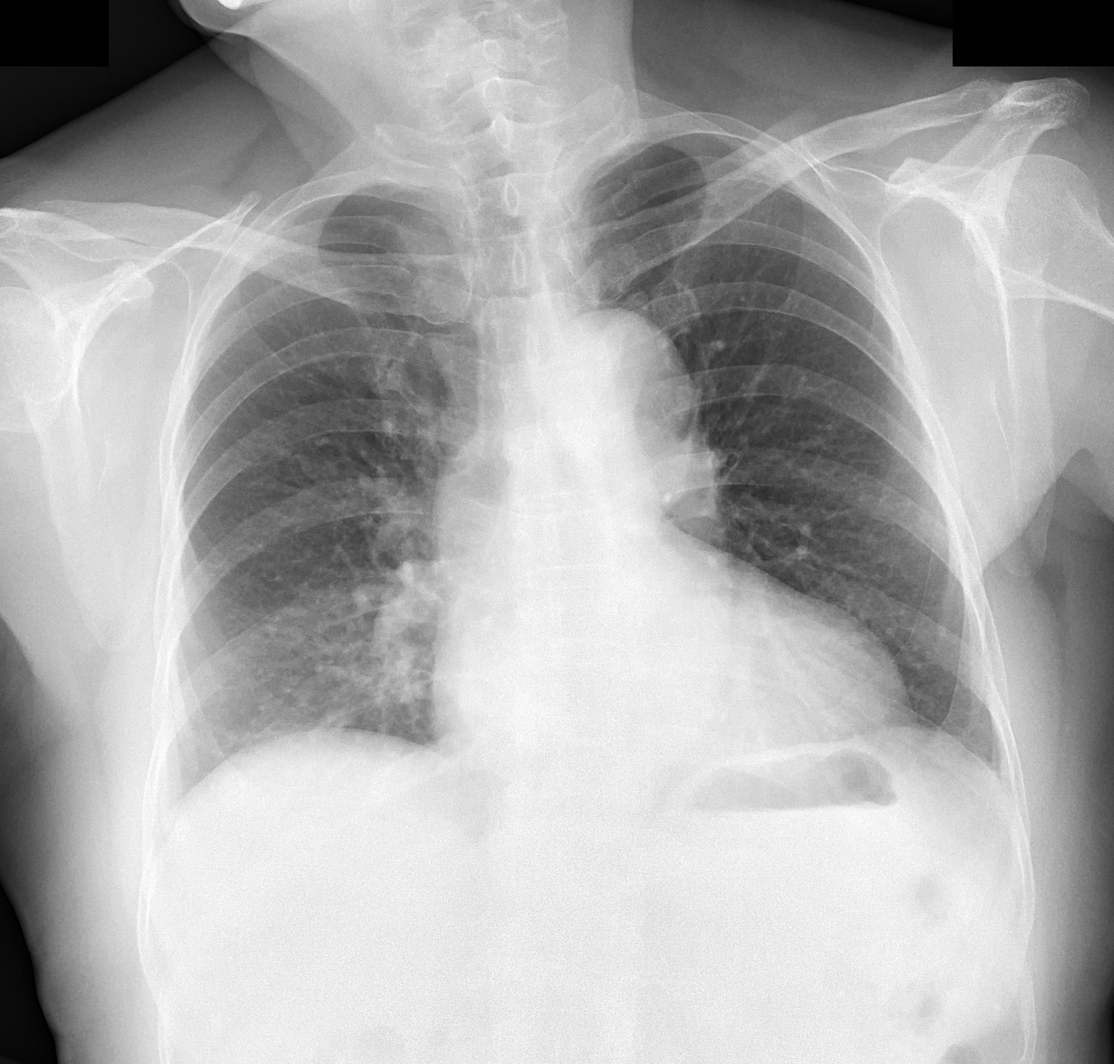Aortic enlargement: (543, 315, 701, 483)
Cardiomegaly: (429, 639, 908, 732)
